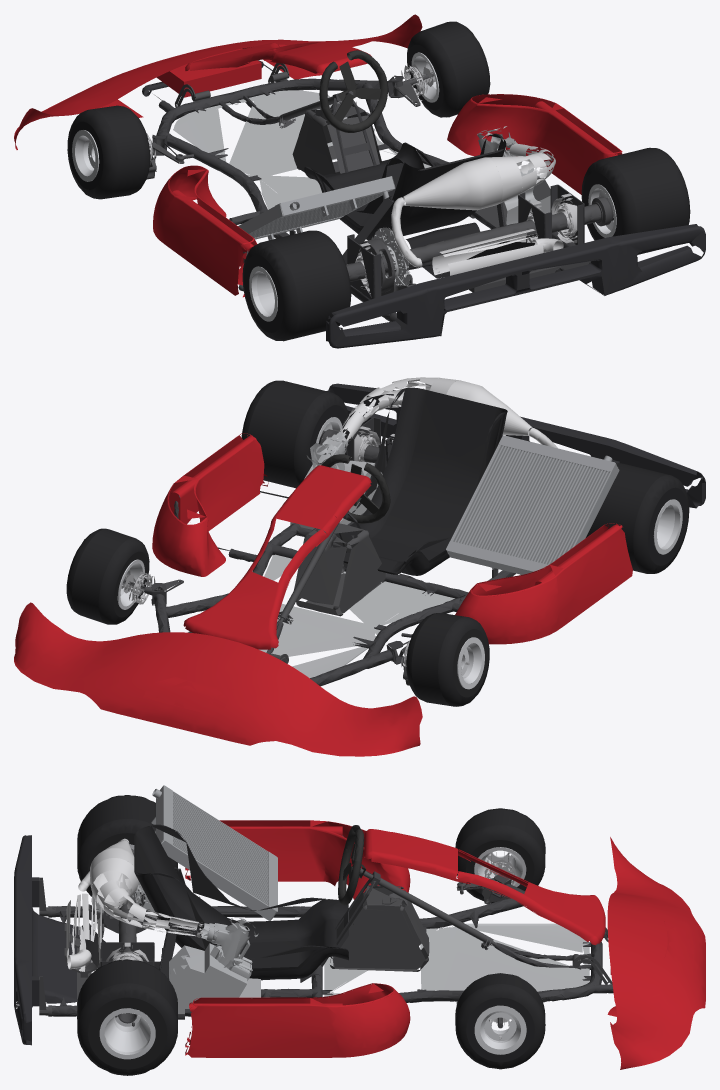
The model's file is kz125-kart.glb.
The picture shows the model from 3 angles, top to bottom: view 1: azimuth 30°, elevation 25°; view 2: azimuth 150°, elevation 25°; view 3: azimuth 270°, elevation 25°; orthographic projection.
Visible parts, largest first — view 1: kz_chassis, wheel_RL, wheel_RR, wheel_FL, wheel_FR, steering; view 2: kz_chassis, wheel_RR, wheel_RL, wheel_FL, wheel_FR, steering; view 3: kz_chassis, wheel_RR, wheel_FR, wheel_FL, wheel_RL, steering.
Boxes of the visible parts, <box> form: kz_chassis: <box>14,14,705,348</box>; wheel_RL: <box>242,230,351,341</box>; wheel_RR: <box>581,147,690,254</box>; wheel_FL: <box>67,105,150,199</box>; wheel_FR: <box>407,21,490,117</box>; steering: <box>319,50,387,132</box>; kz_chassis: <box>14,377,705,756</box>; wheel_RR: <box>241,380,349,488</box>; wheel_RL: <box>586,463,689,573</box>; wheel_FL: <box>406,613,489,706</box>; wheel_FR: <box>66,528,149,624</box>; steering: <box>322,454,390,523</box>; kz_chassis: <box>14,785,705,1069</box>; wheel_RR: <box>77,959,177,1075</box>; wheel_FR: <box>455,973,545,1069</box>; wheel_FL: <box>455,808,545,903</box>; wheel_RL: <box>77,795,177,896</box>; steering: <box>338,825,366,905</box>.
Bounding box in the file's own units: 1.29 × 0.4645 × 1.92.
